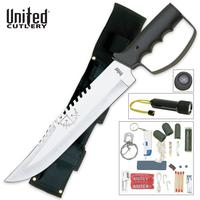knife: (2, 8, 168, 186)
